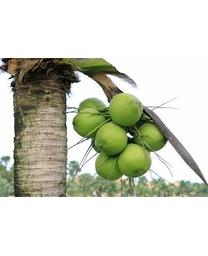coconut: (93, 121, 129, 154), (110, 92, 147, 124), (73, 103, 105, 137), (118, 144, 151, 175), (138, 125, 167, 154), (93, 152, 121, 179)
